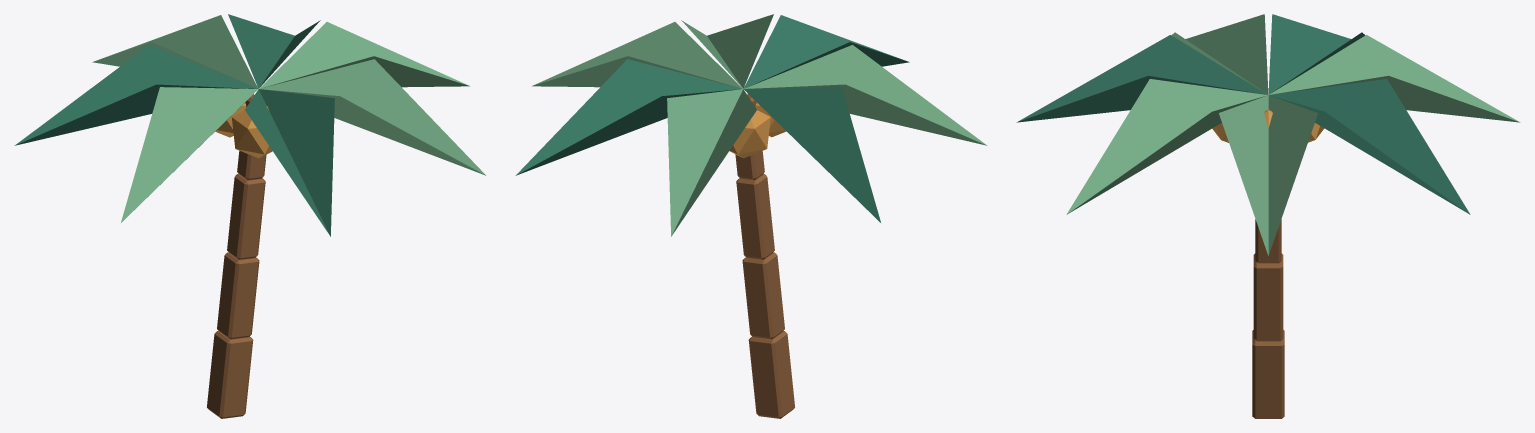
The model's file is palm.glb.
3 views of the same model, side by side, from view 1: azimuth 30°, elevation 25°; view 2: azimuth 150°, elevation 25°; view 3: azimuth 270°, elevation 25° (orthographic). The views are drawn at different scales.
Visible parts, largest first — view 1: curved trunk; view 2: curved trunk; view 3: curved trunk.
Part boxes in pixels (box(x1,y1,x2,y2)): curved trunk: box(14, 14, 486, 418); curved trunk: box(515, 14, 987, 418); curved trunk: box(1016, 14, 1520, 418).
Bounding box in the file's own units: 1.98 × 1.62 × 2.03.
